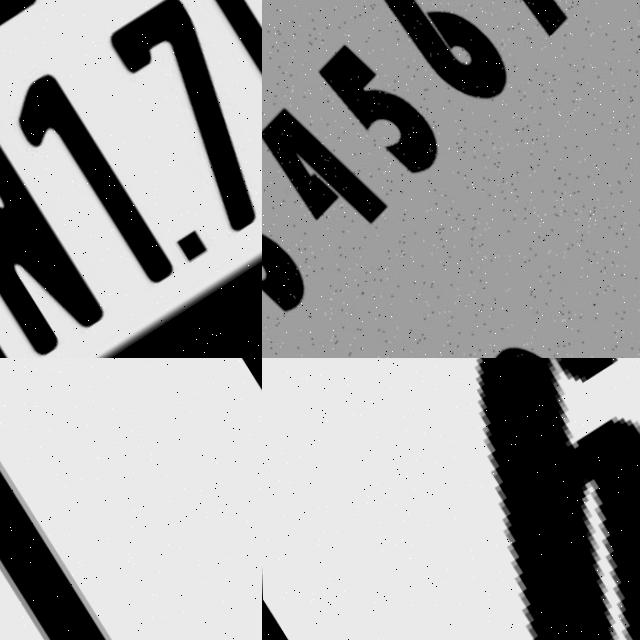0: (430, 271, 640, 358)
1: (0, 67, 172, 311)
3: (262, 136, 336, 355)
4: (262, 60, 403, 287)
5: (268, 0, 473, 224)
6: (317, 358, 640, 640), (330, 0, 544, 164)
7: (97, 0, 262, 245), (405, 0, 611, 98)
J: (0, 358, 185, 640)
N: (0, 112, 109, 358)
P: (195, 0, 262, 188)
